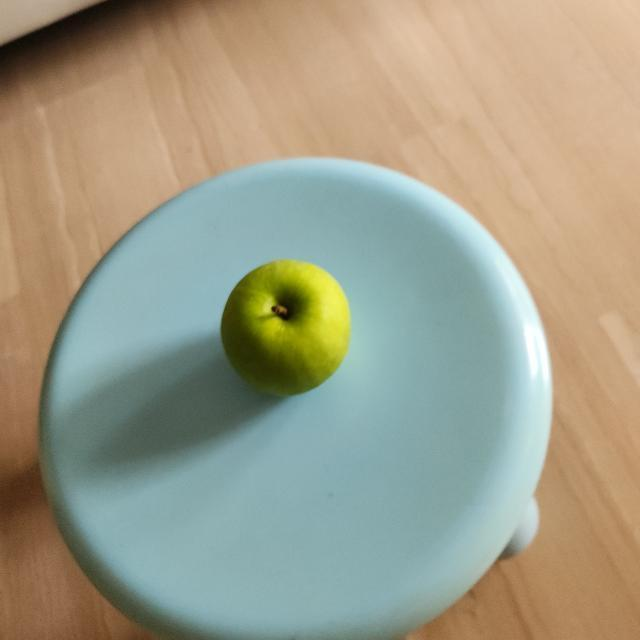apple: (220, 256, 358, 404)
